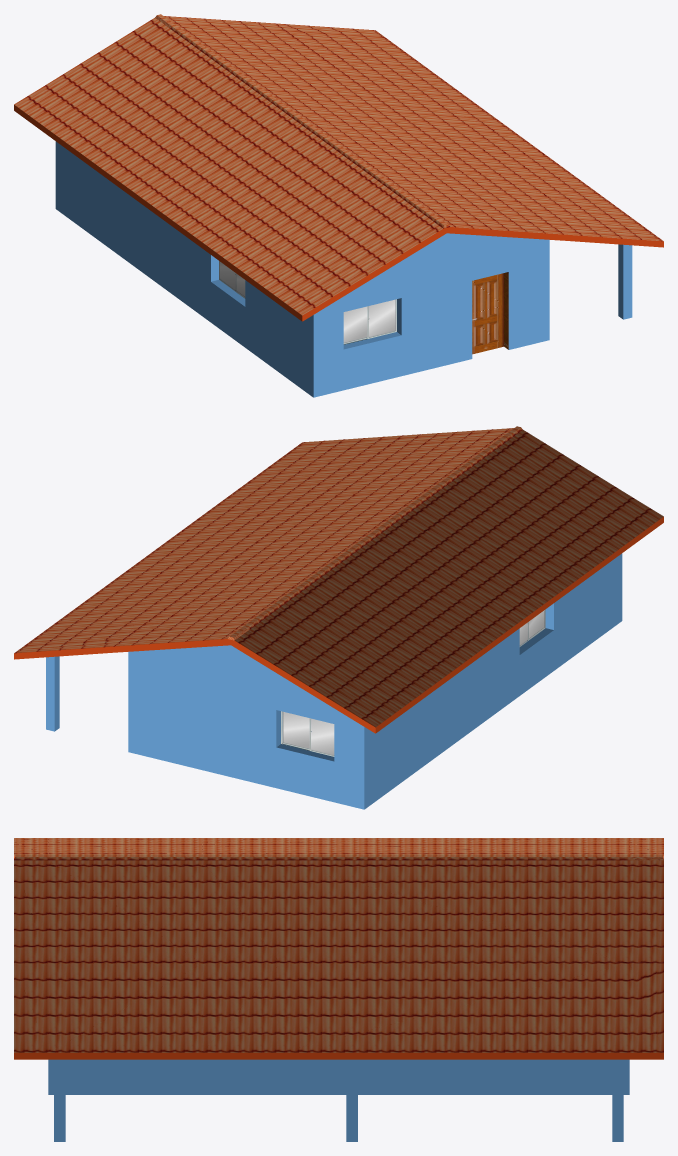
Rendered from Casa03.FBX.
3 renders of one model, top to bottom at view 1: azimuth 30°, elevation 25°; view 2: azimuth 150°, elevation 25°; view 3: azimuth 270°, elevation 25°, orthographic. The views are drawn at different scales.
Visible parts, largest first — view 1: casa03; view 2: casa03; view 3: casa03.
Part boxes in pixels (left/top/right/bottom): casa03: left=14, top=14, right=663, bottom=397; casa03: left=14, top=426, right=663, bottom=809; casa03: left=14, top=838, right=663, bottom=1141.
Bounding box in the file's own units: 2.06 × 0.8407 × 2.84.
5 materials, 4 textured.
